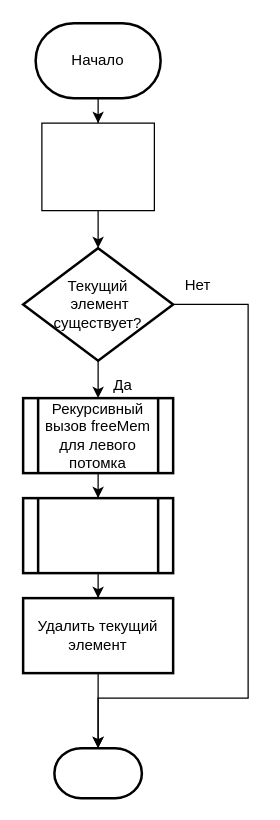
Image size: 280x820. Some labels were removed from this diagram. The centre of each missing label's shape, as x and y in pixels:
"Конец" belongs at pixel 97 772.
"Рекурсивный вызов freeMem для правого потомка" belongs at pixel 97 535.
